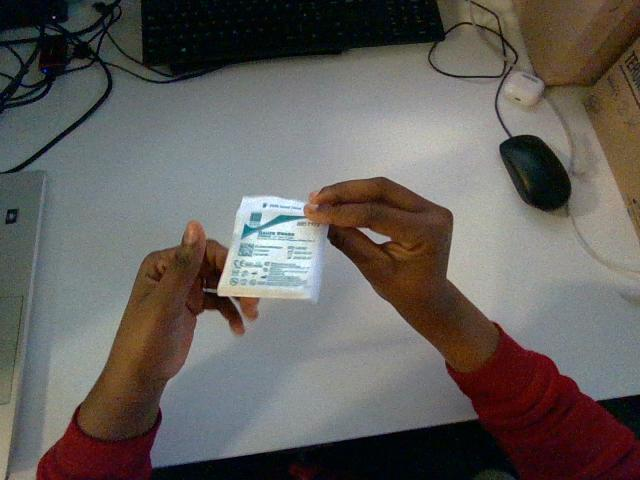gauze: (217, 196, 327, 300)
